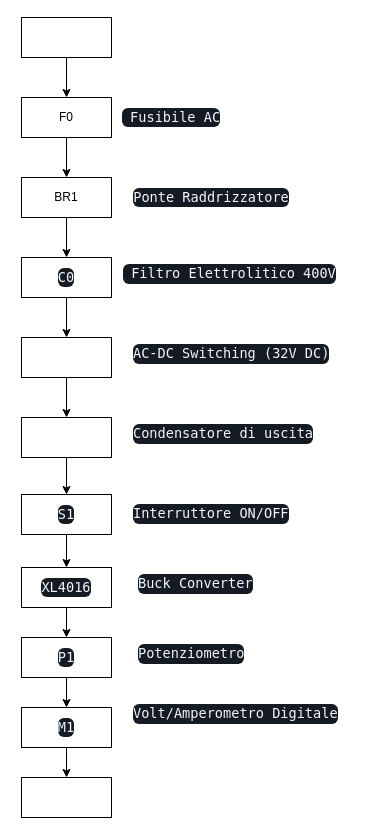
The diagram is 389 pixels wide and 835 high, and some of its shapes have lost their labels. The shapes that lost their labels are listed below. From the top down, each one's centre as x and y in pixels, then its label:
(66,37): 220V
(66,357): U0
(66,437): C0b
(66,797): OUT+ / OUT-
